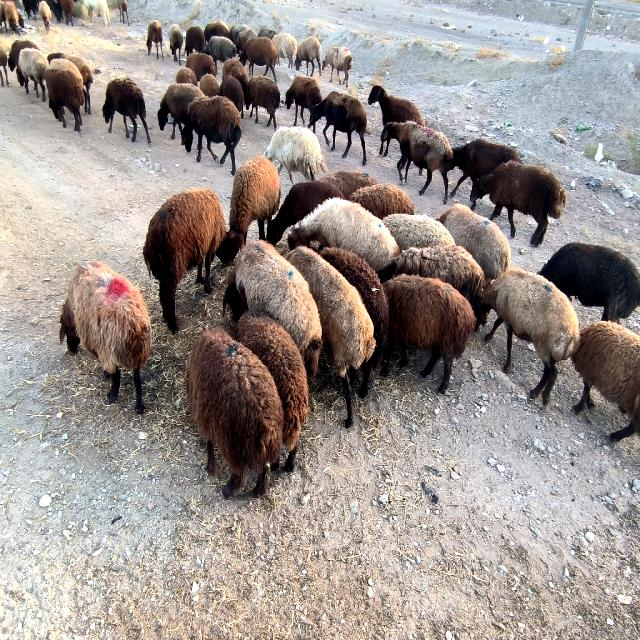sheep: (222, 270, 309, 471), (188, 328, 284, 498), (288, 247, 375, 428), (142, 188, 245, 332), (60, 262, 151, 413), (482, 268, 578, 404), (235, 240, 322, 374), (381, 273, 476, 392), (320, 247, 388, 398), (288, 198, 400, 272), (571, 322, 640, 440), (539, 243, 640, 322), (470, 162, 566, 244), (221, 158, 281, 265), (438, 203, 511, 282), (381, 122, 452, 202), (396, 247, 485, 310), (181, 97, 242, 174), (450, 138, 522, 197), (309, 92, 366, 164), (264, 127, 328, 182), (102, 78, 151, 144), (383, 213, 455, 251), (158, 83, 204, 138), (45, 68, 84, 131), (349, 183, 415, 219), (368, 85, 424, 126), (16, 48, 49, 101), (285, 77, 322, 124), (248, 77, 281, 129), (240, 37, 279, 81), (66, 55, 94, 114), (222, 58, 249, 108), (322, 47, 352, 86), (219, 77, 245, 118), (295, 37, 321, 77), (8, 40, 39, 71), (272, 33, 298, 68), (49, 58, 82, 85), (185, 53, 216, 81), (204, 37, 236, 64), (148, 20, 164, 59), (185, 27, 206, 56), (169, 23, 182, 66), (235, 28, 258, 52), (204, 20, 230, 41), (198, 73, 220, 96), (175, 67, 198, 86), (379, 142, 390, 156)
